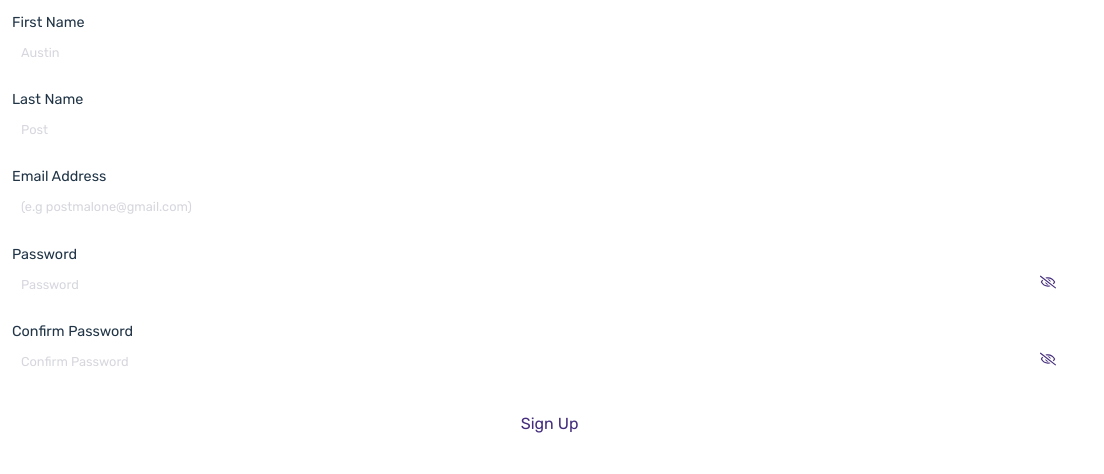
Scenario: SignUpForm › shows mismatch error when passwords differ
Step 1. Type "Alice" into the field with placeholder "Austin" → x=533, y=53, box [12,34,1054,71]
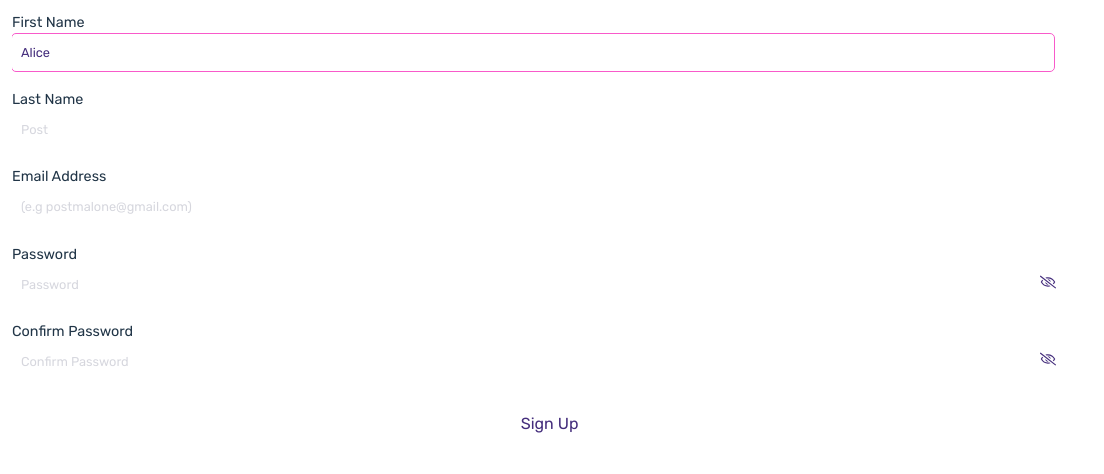
Step 2. Type "Smith" into the field with placeholder "Post" → x=533, y=130, box [12,111,1054,148]
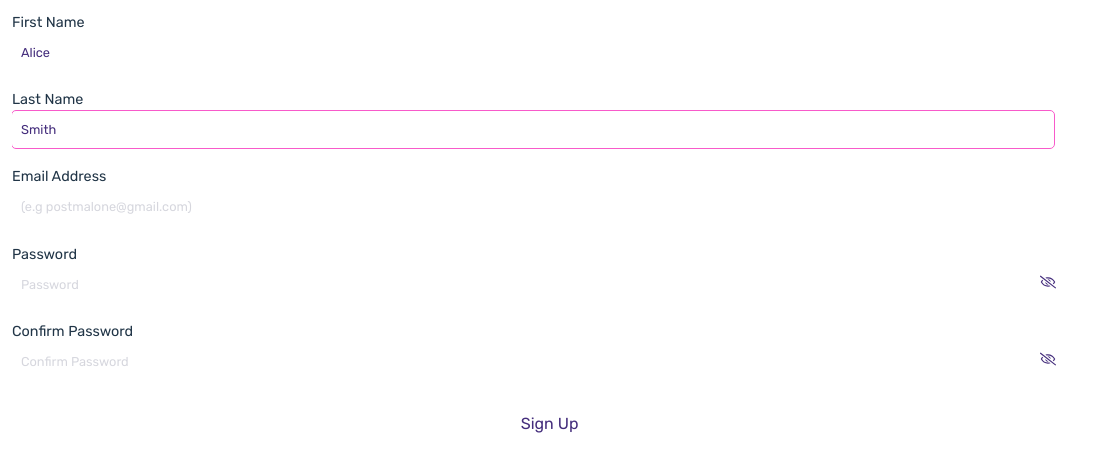
Step 3. Type "alice@domain.com" into the field with placeholder "(e.g postmalone@gmail.com)" → x=533, y=207, box [12,188,1054,226]
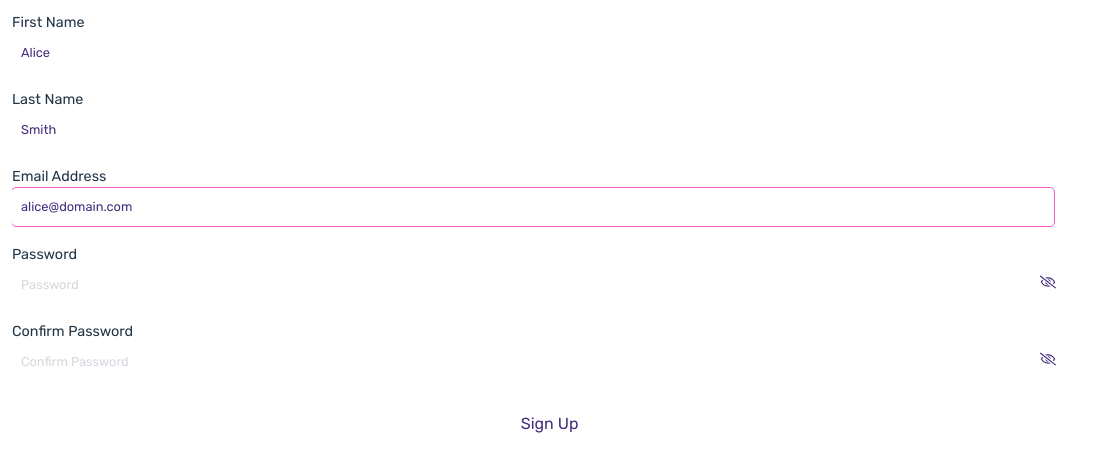
Step 4. Type "ValidP@ss1" into the password field with placeholder "Password" → x=533, y=284, box [12,266,1054,303]
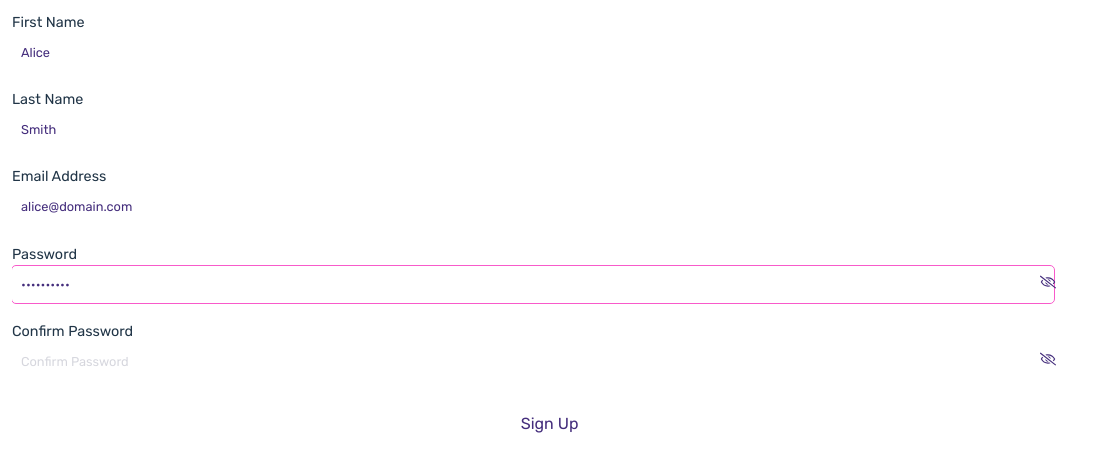
Step 5. Type "DifferentP@ss2" into the password field with placeholder "Confirm Password" → x=533, y=361, box [12,343,1054,380]
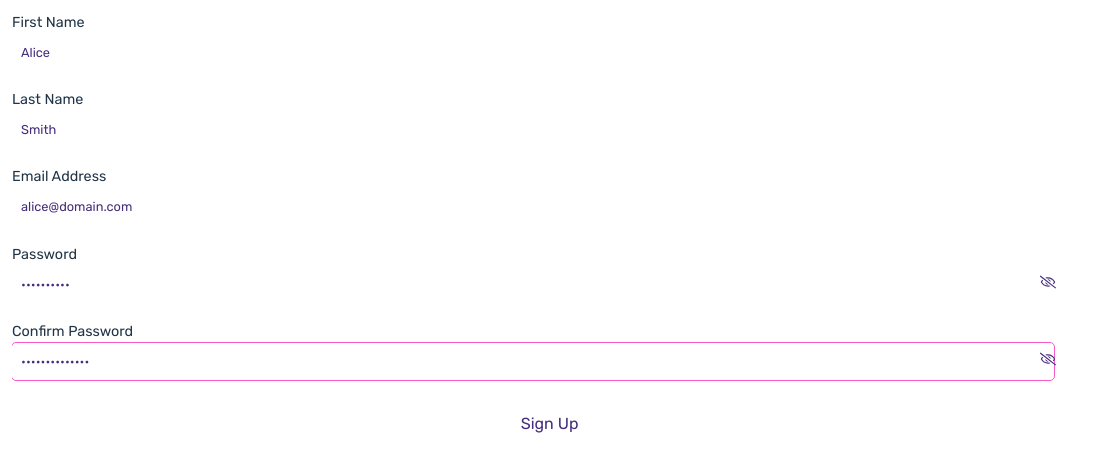
Step 6. Click the button → x=550, y=424, box [12,404,1087,444]
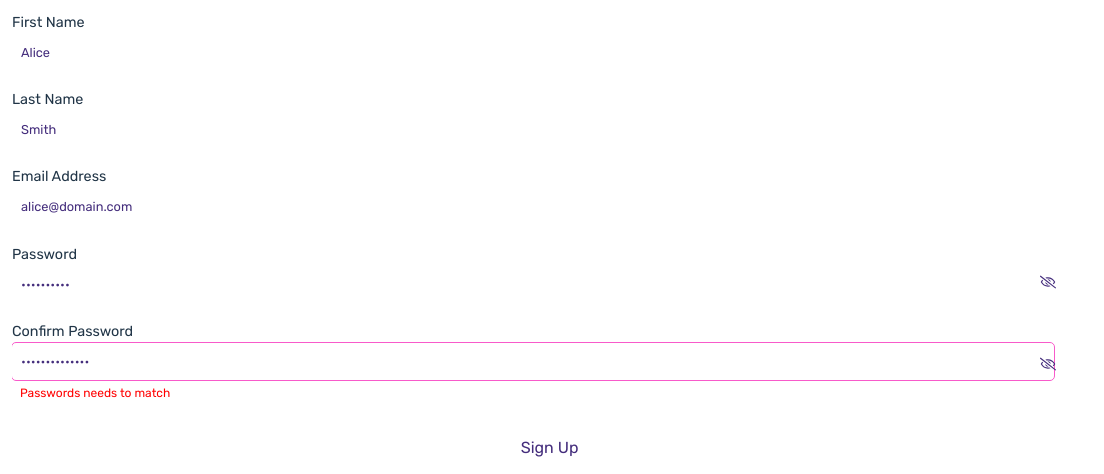
Expected: the text "Passwords needs to match" is shown, [12,386,170,400]
